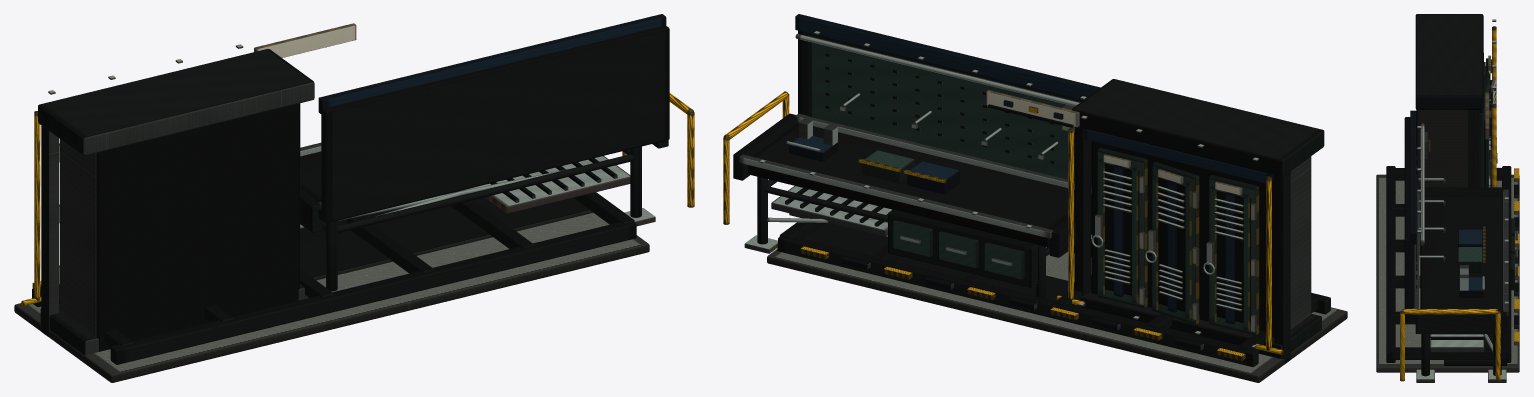
Rendered from level1_apd_industrial_workbench_locker_uv.fbx.
The picture shows the model from 3 angles, left to right: view 1: azimuth 30°, elevation 25°; view 2: azimuth 150°, elevation 25°; view 3: azimuth 270°, elevation 25°; orthographic projection. The views are drawn at different scales.
Visible parts, largest first — view 1: L1APD_V2_Locker_Welded_Back_Box, L1APD_V2_Back_Pegboard_Frame, L1APD_V2_Locker_Top_Cap_Heavy, L1APD_V2_Concrete_Service_Pad, L1APD_V2_Skid_Long_Rail_-8.32, L1APD_V2_Black_AntiSlip_Rubber_Mat, L1APD_V2_Back_Top_Rail_Blue, L1APD_V2_Locker_Left_Side_Column, L1APD_V2_Workbench_Open_Shelf_Galv_Pan, L1APD_V2_Workbench_FrontBack_Tube_-7.87, L1APD_V2_Small_Industrial_Nameplate_NoText, L1APD_V2_Skid_Crossmember_-5.22 (+10 smaller); view 2: L1APD_V2_Back_Pegboard_Painted_Panel, L1APD_V2_Workbench_Black_Rubberized_Top, L1APD_V2_Locker_Top_Cap_Heavy, L1APD_V2_Concrete_Service_Pad, L1APD_V2_Locker_Welded_Back_Box, L1APD_V2_Skid_Long_Rail_-6.82, L1APD_V2_Back_Top_Rail_Blue, L1APD_V2_Workbench_Dark_Drawer_Case, L1APD_V2_Locker_Toe_Kick_Recess, L1APD_V2_Workbench_Galv_Edge_Band_Front, L1APD_V2_Locker_Left_Side_Column, L1APD_V2_Black_AntiSlip_Rubber_Mat (+36 smaller); view 3: L1APD_V2_Workbench_Black_Rubberized_Top, L1APD_V2_Locker_Top_Cap_Heavy, L1APD_V2_Concrete_Service_Pad, L1APD_V2_Locker_Welded_Back_Box, L1APD_V2_Workbench_Right_End_Cap, L1APD_V2_Skid_Long_Rail_-8.32, L1APD_V2_Back_Pegboard_Frame, L1APD_V2_Locker_Right_Side_Column, L1APD_V2_Skid_Crossmember_-3.02, L1APD_V2_Back_Top_Rail_Blue, L1APD_V2_Workbench_Open_Shelf_Galv_Pan, L1APD_V2_Workbench_Left_End_Cap (+32 smaller).
Boxes of the visible parts, x1,y1,x2,y2 form: L1APD_V2_Locker_Welded_Back_Box: [59, 103, 300, 351]; L1APD_V2_Back_Pegboard_Frame: [321, 25, 669, 223]; L1APD_V2_Locker_Top_Cap_Heavy: [38, 49, 314, 155]; L1APD_V2_Concrete_Service_Pad: [14, 212, 649, 382]; L1APD_V2_Skid_Long_Rail_-8.32: [110, 222, 636, 364]; L1APD_V2_Black_AntiSlip_Rubber_Mat: [300, 197, 592, 280]; L1APD_V2_Back_Top_Rail_Blue: [318, 14, 666, 114]; L1APD_V2_Locker_Left_Side_Column: [41, 125, 58, 336]; L1APD_V2_Workbench_Open_Shelf_Galv_Pan: [485, 156, 630, 213]; L1APD_V2_Workbench_FrontBack_Tube_-7.87: [337, 154, 633, 232]; L1APD_V2_Small_Industrial_Nameplate_NoText: [254, 23, 356, 57]; L1APD_V2_Skid_Crossmember_-5.22: [346, 216, 434, 273]; L1APD_V2_Back_Pegboard_Painted_Panel: [808, 36, 1091, 184]; L1APD_V2_Workbench_Black_Rubberized_Top: [748, 123, 1091, 247]; L1APD_V2_Locker_Top_Cap_Heavy: [1072, 79, 1324, 176]; L1APD_V2_Concrete_Service_Pad: [767, 235, 1347, 382]; L1APD_V2_Locker_Welded_Back_Box: [1091, 141, 1311, 337]; L1APD_V2_Skid_Long_Rail_-6.82: [778, 236, 1258, 366]; L1APD_V2_Back_Top_Rail_Blue: [795, 14, 1100, 99]; L1APD_V2_Workbench_Dark_Drawer_Case: [888, 209, 1037, 288]; L1APD_V2_Locker_Toe_Kick_Recess: [1078, 289, 1321, 358]; L1APD_V2_Workbench_Galv_Edge_Band_Front: [739, 154, 1053, 238]; L1APD_V2_Locker_Left_Side_Column: [1274, 171, 1290, 364]; L1APD_V2_Black_AntiSlip_Rubber_Mat: [777, 223, 1074, 300]; L1APD_V2_Workbench_Black_Rubberized_Top: [1420, 195, 1502, 311]; L1APD_V2_Locker_Top_Cap_Heavy: [1415, 14, 1483, 109]; L1APD_V2_Concrete_Service_Pad: [1376, 174, 1519, 372]; L1APD_V2_Locker_Welded_Back_Box: [1416, 109, 1467, 239]; L1APD_V2_Workbench_Right_End_Cap: [1415, 311, 1506, 333]; L1APD_V2_Skid_Long_Rail_-8.32: [1386, 166, 1395, 362]; L1APD_V2_Back_Pegboard_Frame: [1404, 117, 1412, 321]; L1APD_V2_Locker_Right_Side_Column: [1468, 110, 1480, 187]; L1APD_V2_Skid_Crossmember_-3.02: [1390, 347, 1507, 359]; L1APD_V2_Back_Top_Rail_Blue: [1410, 110, 1416, 244]; L1APD_V2_Workbench_Open_Shelf_Galv_Pan: [1430, 334, 1484, 352]; L1APD_V2_Workbench_Left_End_Cap: [1417, 187, 1506, 209].
Size of the model in its own units: 668 by 240 by 186.
Materials: 1 (1 with a texture image).
